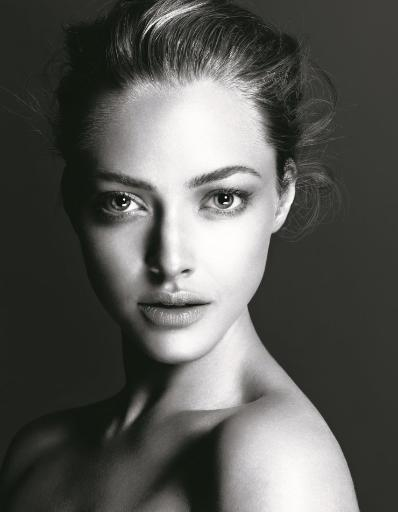left_eye: (199, 186, 252, 220)
left_lip_corner: (202, 297, 219, 317)
right_eye: (97, 191, 149, 220)
right_lip_corner: (136, 297, 152, 317)
